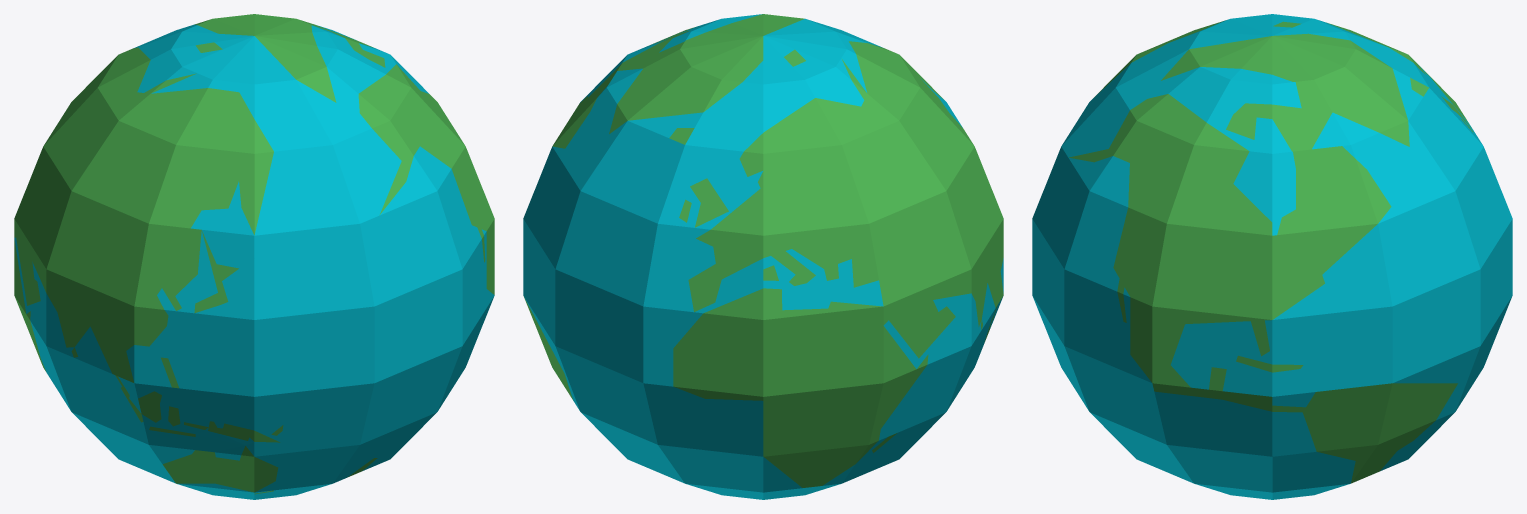
File: earth.gltf
3 renders of one model, left to right at view 1: azimuth 30°, elevation 25°; view 2: azimuth 150°, elevation 25°; view 3: azimuth 270°, elevation 25°, orthographic.
Visible parts, largest first — view 1: group1519172617; view 2: group1519172617; view 3: group1519172617.
Part boxes in pixels (x1,y1,x2,y2): group1519172617: [14, 14, 494, 499]; group1519172617: [523, 14, 1003, 499]; group1519172617: [1032, 14, 1512, 499].
Size of the model in its own units: 1.37 by 1.39 by 1.37.
